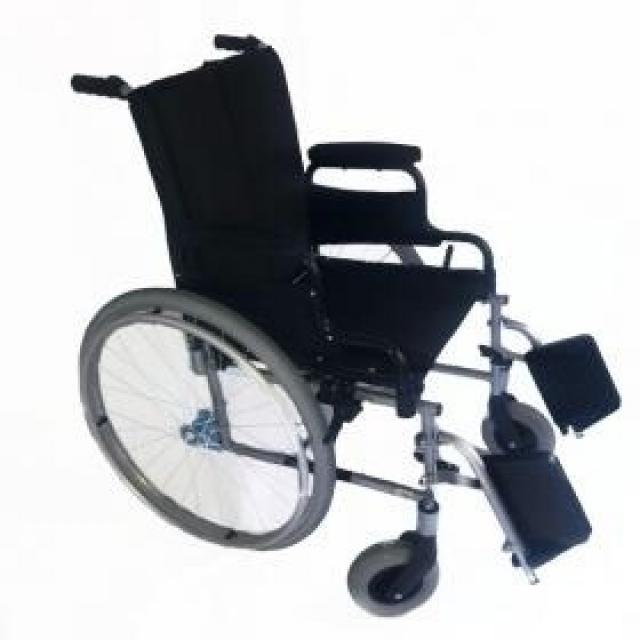wheelchair: (59, 14, 640, 626)
